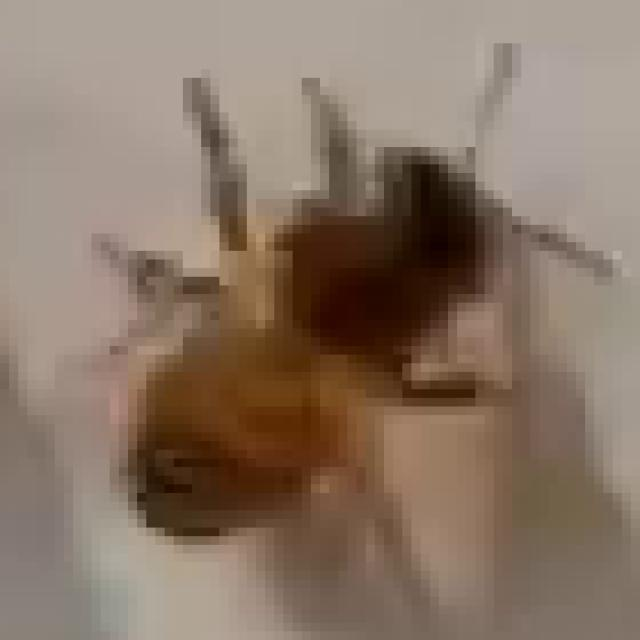honeybee: (139, 74, 533, 558)
